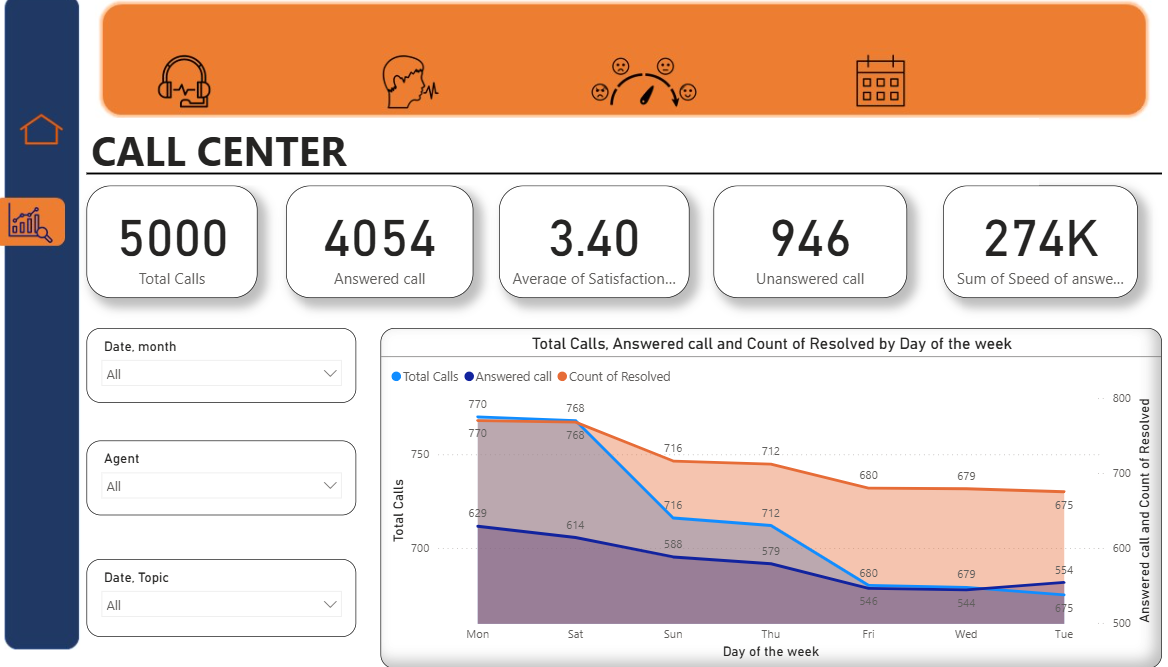

Layout of this report page (visuals, bound fields, positions):
{"tool":"powerbi","page":{"name":"Page 1","canvas":[1280,720],"ordinal":0},"visuals":[{"type":"card","fields":{"Values":["Sheet1.Total call"]},"box":[119.3,208.4,181.3,119.3],"z":0},{"type":"card","fields":{"Values":["Sheet1.Answered call"]},"box":[330.8,208.4,198.8,119.3],"z":1000},{"type":"card","fields":{"Values":["Sheet1.Unanswered call"]},"box":[784.2,208.4,205.2,119.3],"z":2000},{"type":"card","fields":{"Values":["Avg(Sheet1.Satisfaction rating)"]},"box":[556.7,208.4,202,119.3],"z":3000},{"type":"card","fields":{"Values":["Sum(Sheet1.Speed of answer in seconds)"]},"box":[1027.5,208.4,206.8,119.3],"z":4000},{"type":"slicer","fields":{"Values":["Sheet1.Date","Sheet1.month"]},"box":[119.3,359.5,286.3,79.5],"z":5000},{"type":"slicer","fields":{"Values":["Sheet1.Agent"]},"box":[119.3,478.8,286.3,79.5],"z":6000},{"type":"slicer","fields":{"Values":["Sheet1.Date","Sheet1.Topic"]},"box":[119.3,604.4,286.3,82.7],"z":7000},{"type":"lineChart","fields":{"Category":["Sheet1.Day of the week"],"Y":["Sheet1.Total Calls"],"Y2":["Sheet1.Answered call","CountNonNull(Sheet1.Resolved)"]},"box":[431.1,359.5,828.7,361.1],"z":9000},{"type":"textbox","box":[119.3,136.8,1010,71.6],"z":10000},{"type":"shape","box":[119.3,141.6,1140.5,108.2],"z":11000}]}

Visuals, with their boxes on the page's 1280x720 design canvas (x1, y1, x2, y2). These are canvas units, not pixel positions in the 1168x667 screenshot, which may show the page scaled, cropped or inside an application window:
card - Sheet1.Total call: [left=119, top=208, right=301, bottom=328]
card - Sheet1.Answered call: [left=331, top=208, right=530, bottom=328]
card - Sheet1.Unanswered call: [left=784, top=208, right=989, bottom=328]
card - Avg(Sheet1.Satisfaction rating): [left=557, top=208, right=759, bottom=328]
card - Sum(Sheet1.Speed of answer in seconds): [left=1028, top=208, right=1234, bottom=328]
slicer - Sheet1.Date x Sheet1.month: [left=119, top=360, right=406, bottom=439]
slicer - Sheet1.Agent: [left=119, top=479, right=406, bottom=558]
slicer - Sheet1.Date x Sheet1.Topic: [left=119, top=604, right=406, bottom=687]
lineChart - Sheet1.Day of the week x Sheet1.Total Calls: [left=431, top=360, right=1260, bottom=721]
textbox: [left=119, top=137, right=1129, bottom=208]
shape: [left=119, top=142, right=1260, bottom=250]
